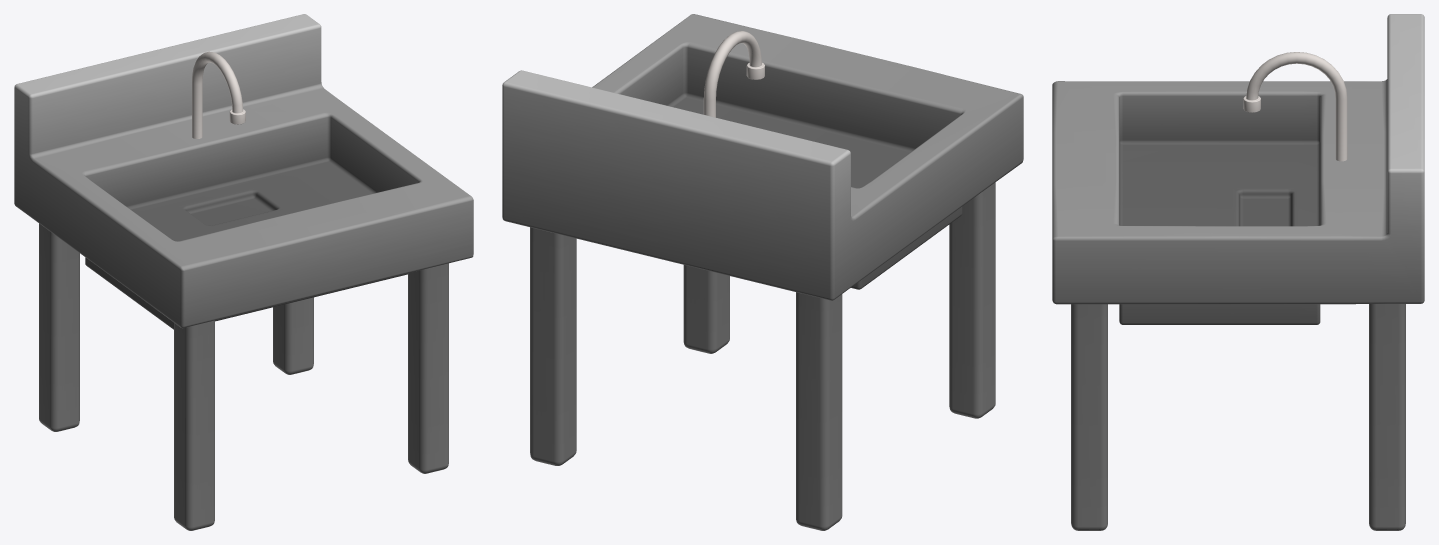
Rendered from HH_Sink.fbx.
3 renders of one model, left to right at view 1: azimuth 30°, elevation 25°; view 2: azimuth 150°, elevation 25°; view 3: azimuth 270°, elevation 25°, orthographic. The views are drawn at different scales.
Parts seen in each view (by area): view 1: Base, Legs_Sink, Tap; view 2: Base, Legs_Sink, Tap; view 3: Base, Legs_Sink, Tap.
Boxes of the visible parts, left/top/right/bottom form: Base: left=14, top=14, right=473, bottom=329; Legs_Sink: left=39, top=223, right=448, bottom=530; Tap: left=192, top=51, right=245, bottom=138; Base: left=502, top=14, right=1023, bottom=300; Legs_Sink: left=530, top=182, right=995, bottom=530; Tap: left=703, top=31, right=764, bottom=117; Base: left=1052, top=14, right=1424, bottom=324; Legs_Sink: left=1071, top=304, right=1405, bottom=530; Tap: left=1243, top=52, right=1347, bottom=161.
Bounding box in the file's own units: 100 × 122 × 100.
1 material, 1 textured.
